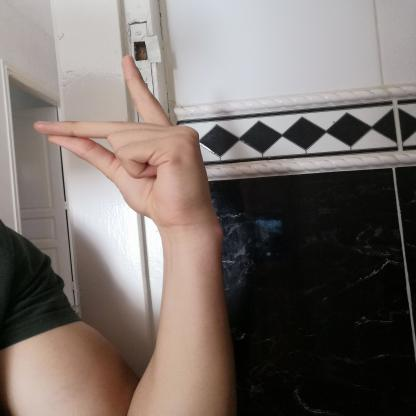TAA: (20, 47, 227, 232)
